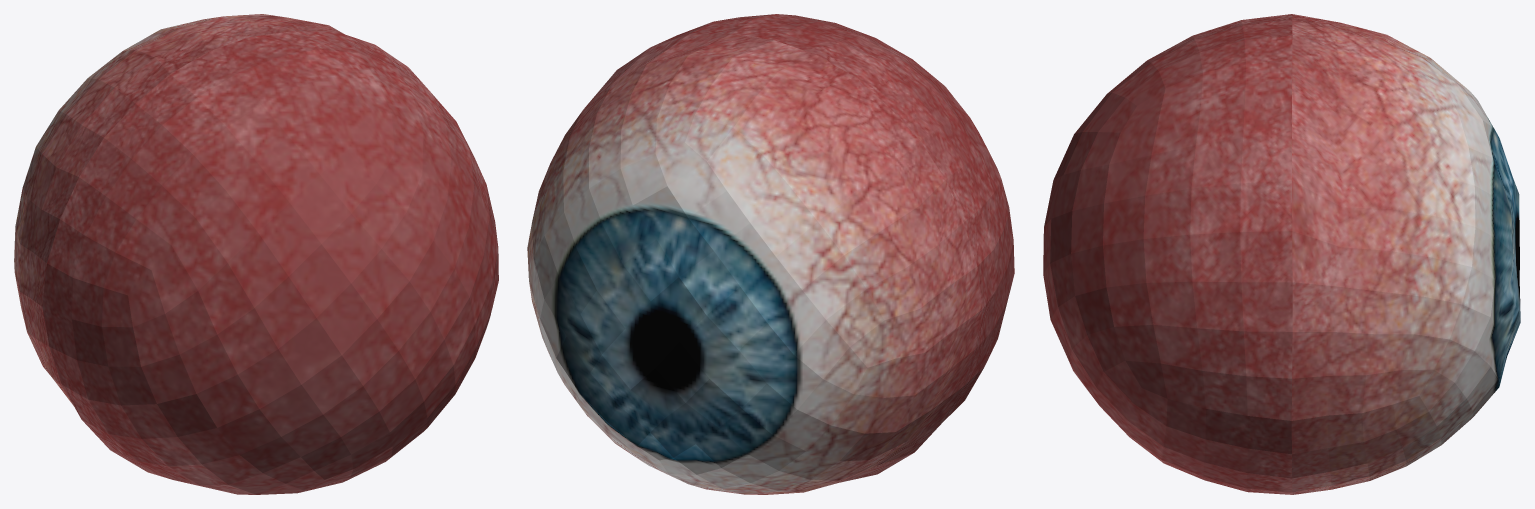
The model's file is MatBiec.fbx.
The picture shows the model from 3 angles, left to right: view 1: azimuth 30°, elevation 25°; view 2: azimuth 150°, elevation 25°; view 3: azimuth 270°, elevation 25°; orthographic projection.
Parts seen in each view (by area): view 1: MatBiec; view 2: MatBiec; view 3: MatBiec.
Part boxes in pixels (x1=…): MatBiec: x1=14, y1=14, x2=498, y2=494; MatBiec: x1=527, y1=14, x2=1014, y2=494; MatBiec: x1=1043, y1=14, x2=1520, y2=494.
Bounding box in the file's own units: 1.08 × 1.06 × 1.07.
Materials: 1 (1 with a texture image).
